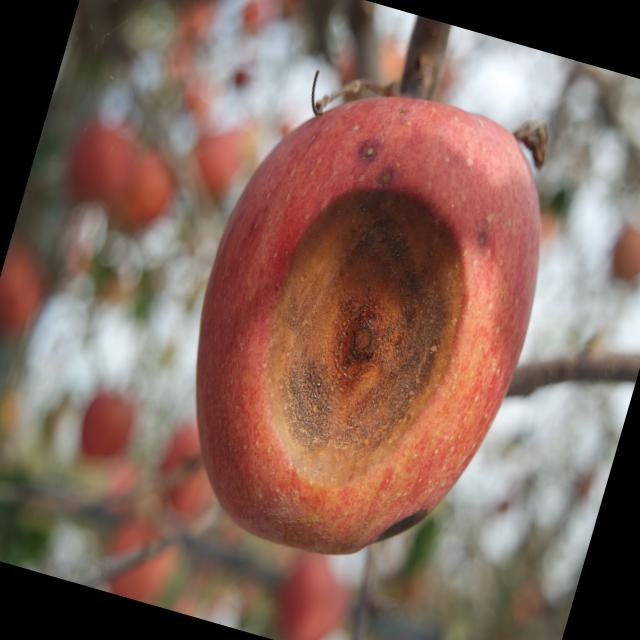rotten: (134, 45, 589, 608)
